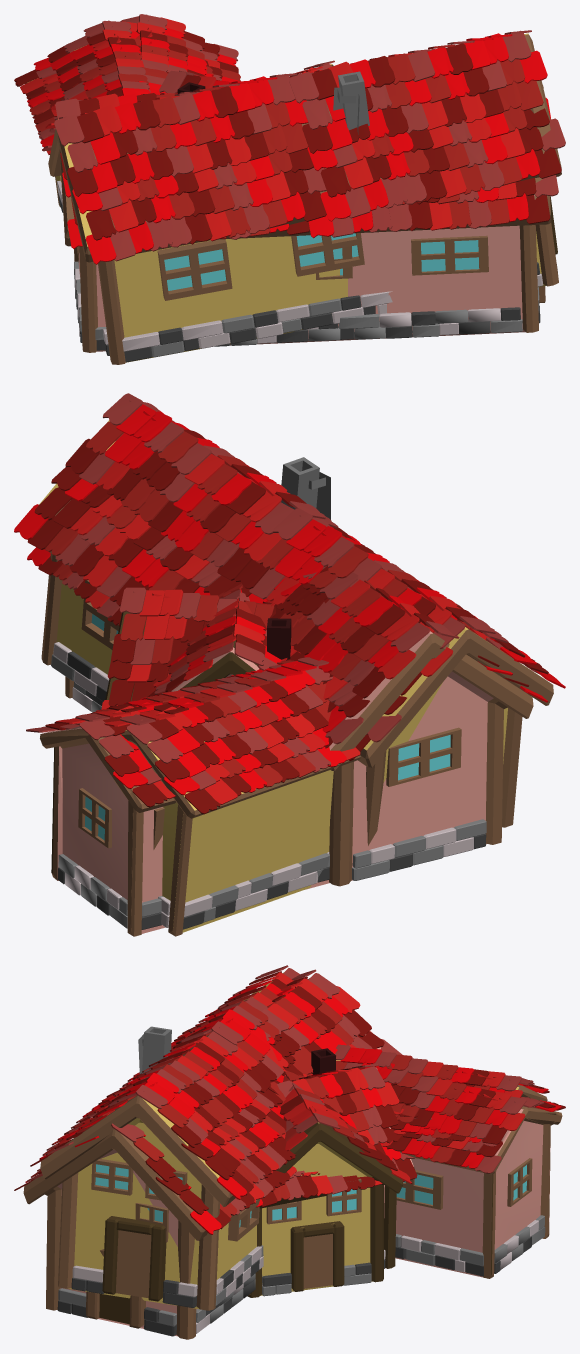
File: village-houses.glb
3 views of the same model, one above another, from view 1: azimuth 30°, elevation 25°; view 2: azimuth 150°, elevation 25°; view 3: azimuth 270°, elevation 25° (orthographic). The views are drawn at different scales.
Visible parts, largest first — view 1: House4_Red1, House4_Red3, House4_Red4, House4_Red5, House4_Yellow, House3_Pink, House4_Red2, House4_Brown, House3_Brown, House3_Red4, House3_Red3, House3_Red1 (+12 smaller); view 2: House3_Pink, House4_Red1, House3_Brown, House4_Yellow, House4_Red3, House4_Red4, House4_Brown, House4_Red5, House4_Red2, House3_Red1, House3_Red4, House3_Red3 (+21 smaller); view 3: House3_Brown, House4_Brown, House3_Pink, House4_Yellow, House4_Red1, House4_Red3, House3_Red1, House4_Red4, House1_Dark_brown, House1_Yellow, House4_Red5, House3_Red4 (+29 smaller).
Boxes of the visible parts, x1,y1,x2,y2 form: House4_Red1: [14, 32, 561, 244]; House4_Red3: [27, 31, 547, 264]; House4_Red4: [36, 20, 565, 261]; House4_Red5: [29, 38, 543, 237]; House4_Yellow: [27, 33, 545, 362]; House3_Pink: [78, 194, 534, 351]; House4_Red2: [20, 21, 525, 241]; House4_Brown: [25, 34, 561, 364]; House3_Brown: [56, 85, 551, 352]; House3_Red4: [49, 14, 558, 239]; House3_Red3: [62, 27, 551, 248]; House3_Red1: [60, 28, 550, 234]; House3_Pink: [43, 631, 493, 933]; House4_Red1: [27, 429, 548, 814]; House3_Brown: [40, 631, 533, 936]; House4_Yellow: [39, 420, 540, 932]; House4_Red3: [14, 404, 565, 795]; House4_Red4: [55, 393, 539, 790]; House4_Brown: [41, 433, 553, 936]; House4_Red5: [44, 420, 470, 787]; House4_Red2: [70, 453, 518, 804]; House3_Red1: [38, 556, 528, 807]; House3_Red4: [26, 566, 459, 784]; House3_Red3: [27, 547, 548, 788]; House3_Brown: [23, 978, 562, 1339]; House4_Brown: [40, 1034, 547, 1310]; House3_Pink: [57, 1030, 550, 1336]; House4_Yellow: [68, 972, 518, 1309]; House4_Red1: [30, 971, 549, 1195]; House4_Red3: [39, 980, 548, 1199]; House3_Red1: [14, 976, 565, 1229]; House4_Red4: [45, 965, 534, 1183]; House1_Dark_brown: [247, 1122, 402, 1297]; House1_Yellow: [260, 1122, 372, 1295]; House4_Red5: [42, 988, 490, 1185]; House3_Red4: [27, 969, 543, 1214].
Bounding box in the file's own units: 8.36 × 4.61 × 9.27.
